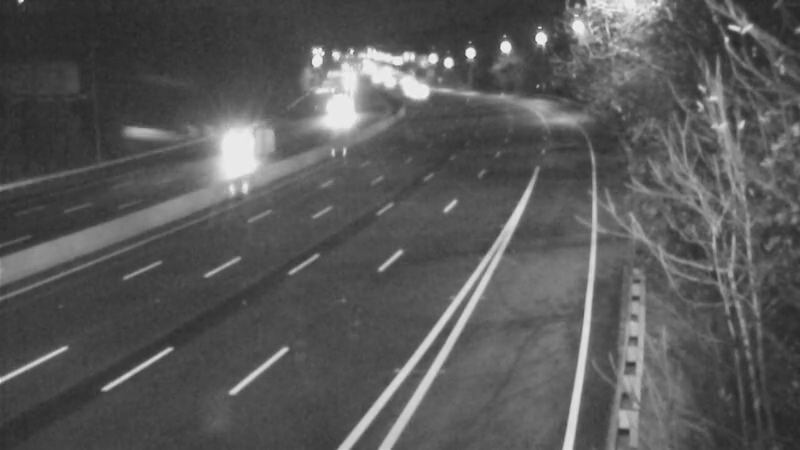vehicle: (392, 68, 442, 118), (211, 118, 261, 168), (314, 88, 364, 138)
